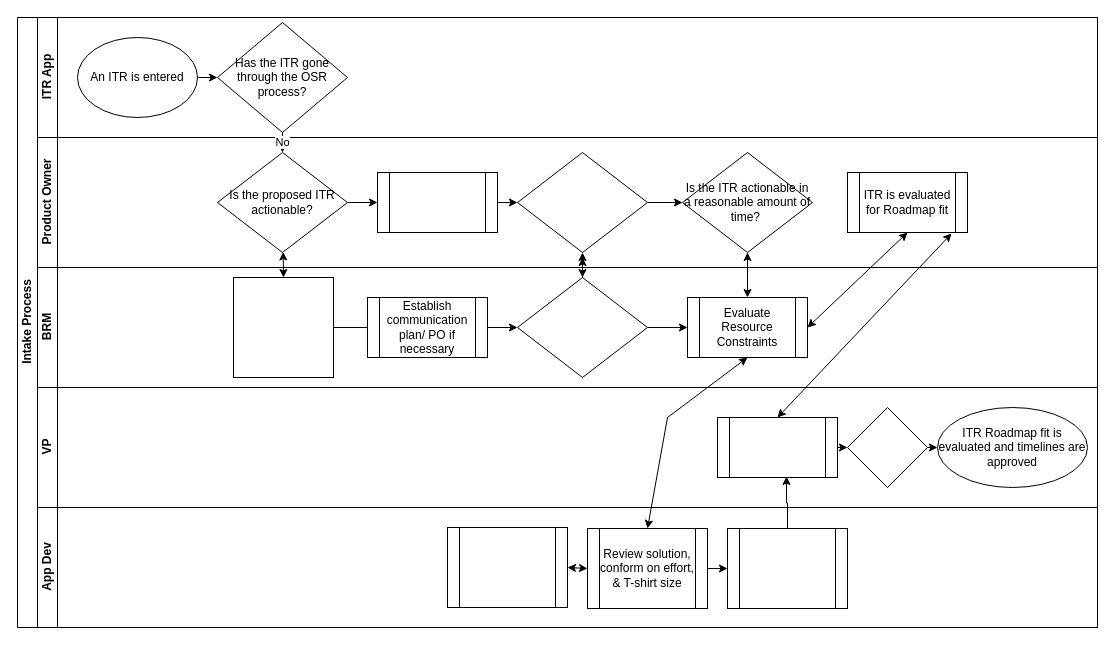
The diagram is 1115 pixels wide and 645 high, and some of its shapes have lost their labels. The shapes that lost their labels are listed below. From the top down, each one's box as (x1, y1, x2, y2) in pixels, then its label:
(376, 172, 498, 232): Restate Actionable ITR
(516, 152, 648, 252): Is the ITR covered under and existing ITR?
(232, 276, 334, 378): ITR must be well vetted, good description, and clear benefit to the business
(516, 276, 648, 378): Are ITRs Processing in a reasonable amount of time?
(716, 416, 838, 478): Roadmap is presented at BITA
(846, 406, 928, 488): Is road map approved?
(446, 526, 568, 608): Understand, disposition, Solution
(726, 528, 848, 608): Collaborate on roadmap in bi-weekly with business
